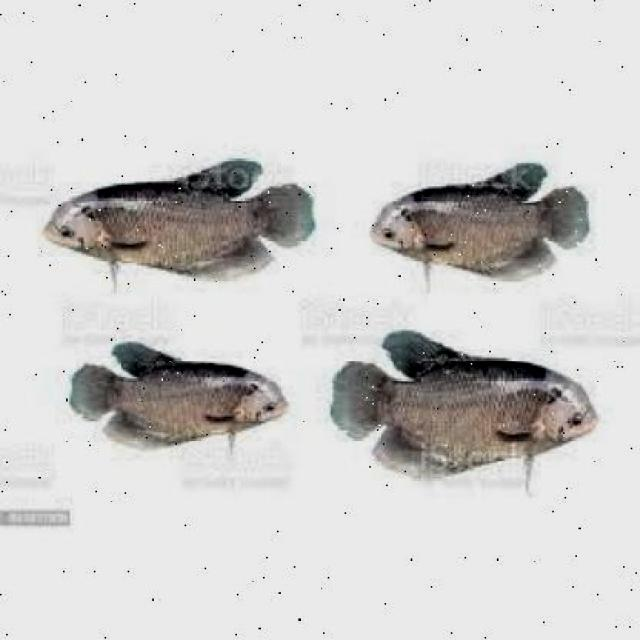gurame: (328, 326, 598, 477), (39, 157, 318, 283), (67, 342, 296, 464), (374, 162, 586, 282)
